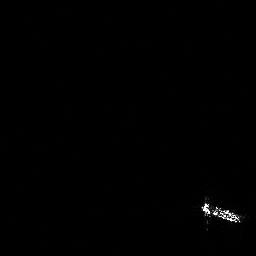ship: (199, 197, 243, 225)
